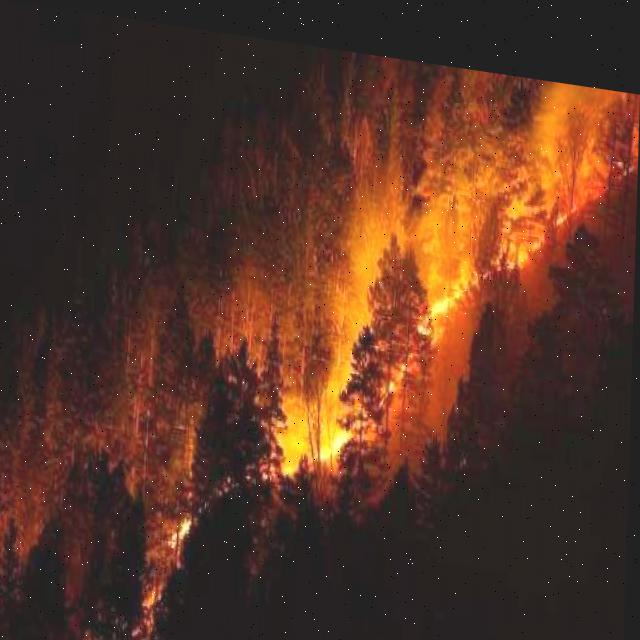Fire: (264, 51, 616, 516), (168, 496, 198, 544)
